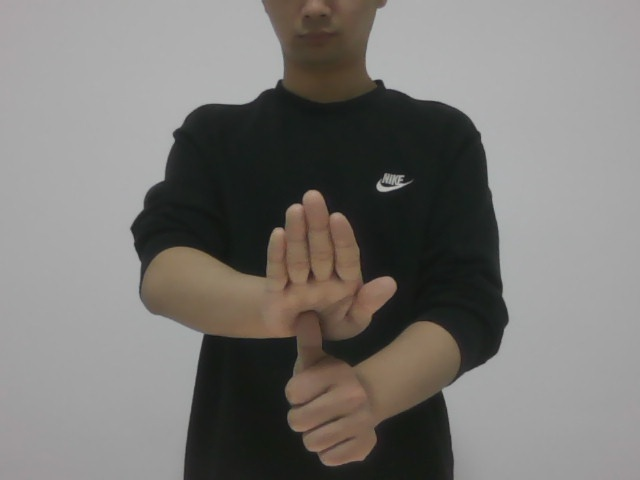love: (261, 190, 408, 469)
